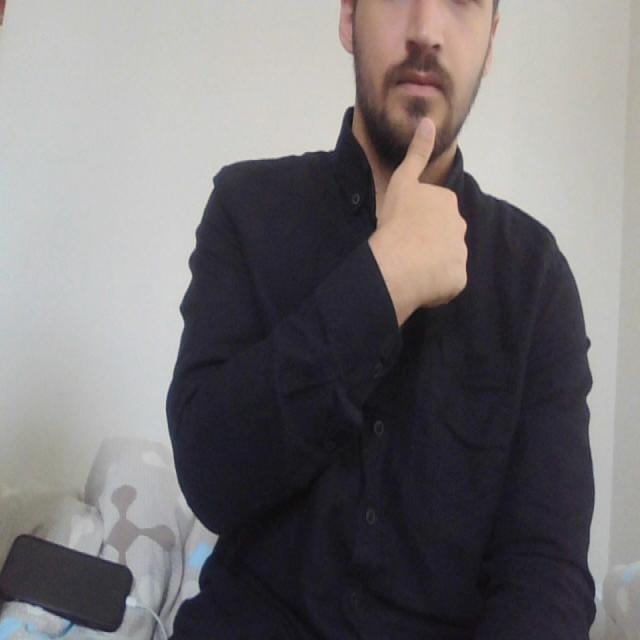Baba: (374, 62, 456, 177)
